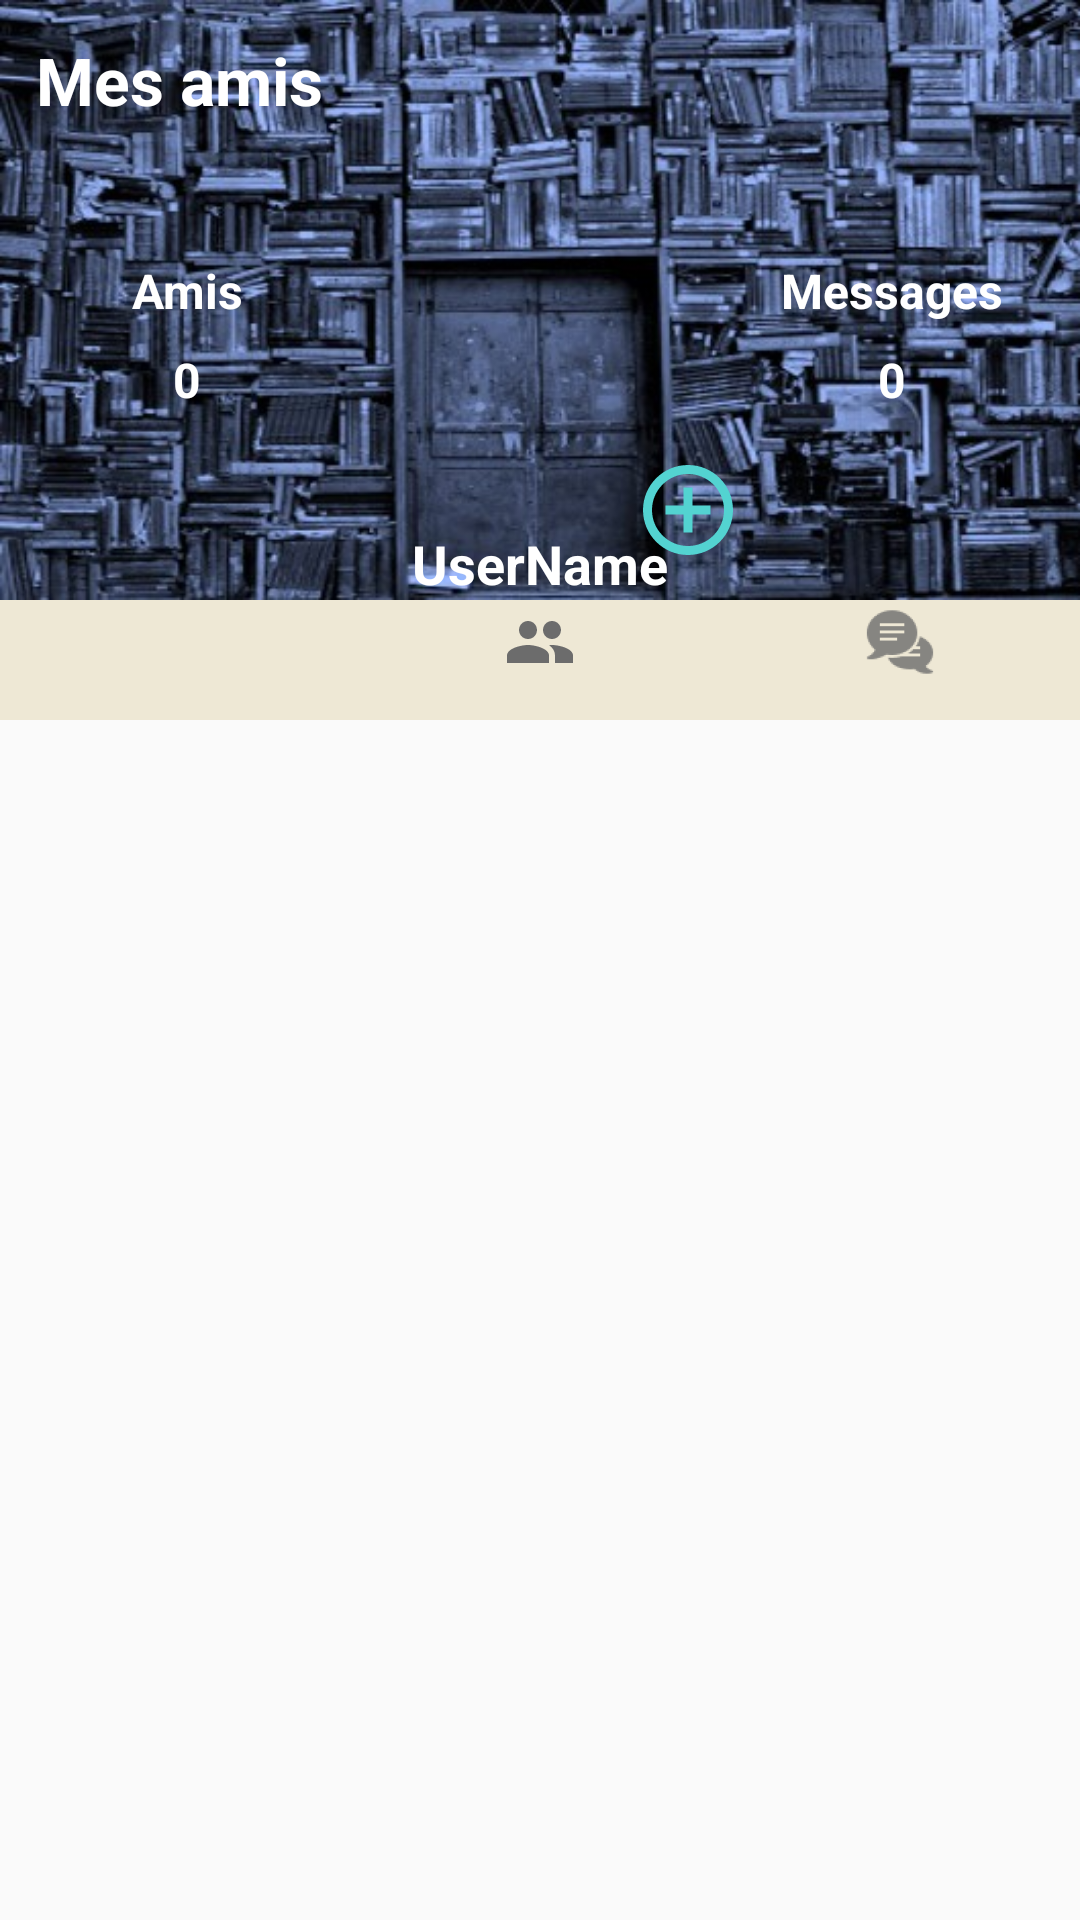

Icons on this 1080*1920 Android screen, each with the point to tap as point (x, y):
add: point (688, 510)
